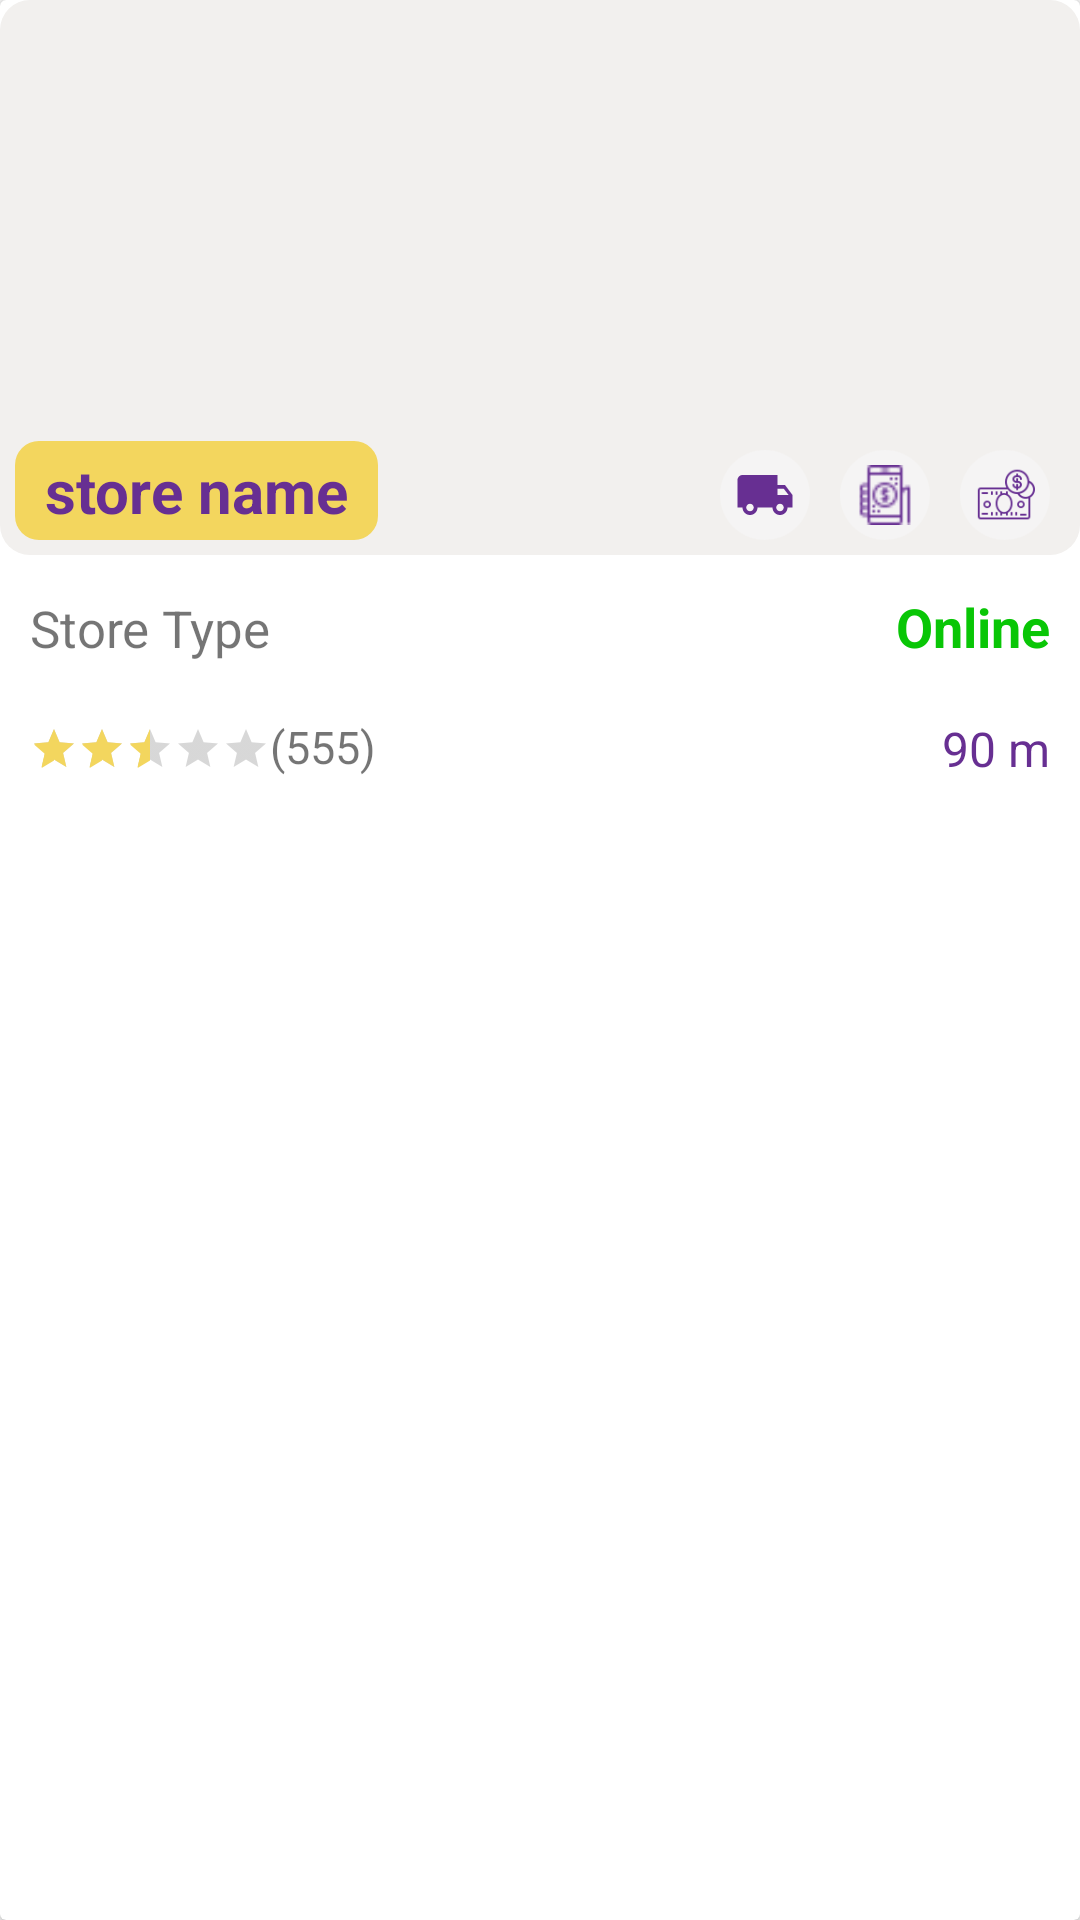

Where icons sit on this 1080 x 1920 app screen, as (x1, y1, x2, y2):
cash pay: (977, 469, 1035, 520)
local shipping: (737, 475, 793, 515)
